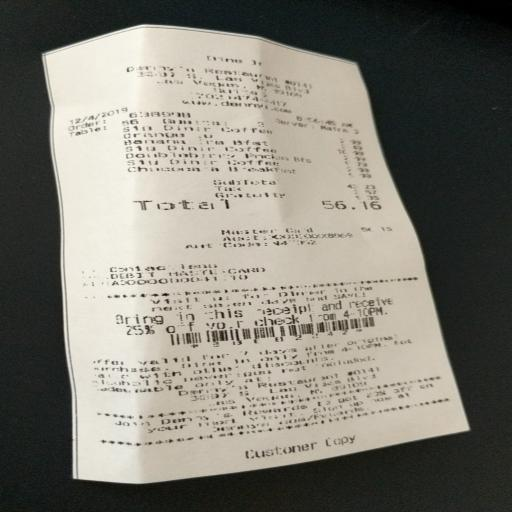paper: (12, 11, 495, 512)
